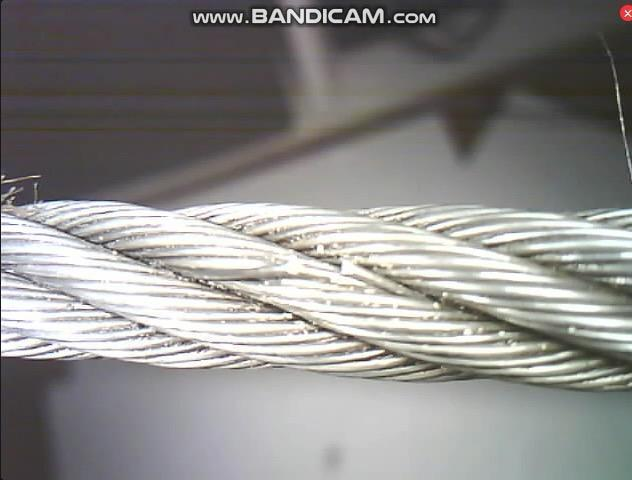break: (275, 246, 362, 286)
